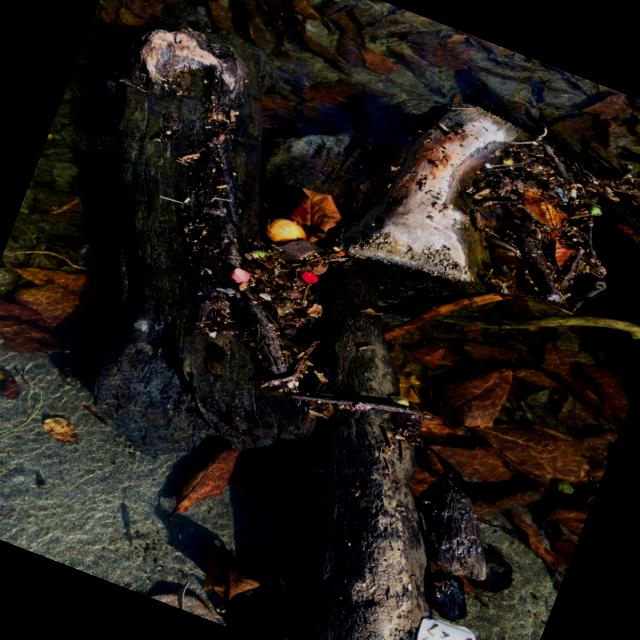Bottle cap: (230, 269, 248, 283), (301, 272, 318, 284)
Other plastic bottle: (417, 619, 475, 640), (554, 187, 567, 202)
